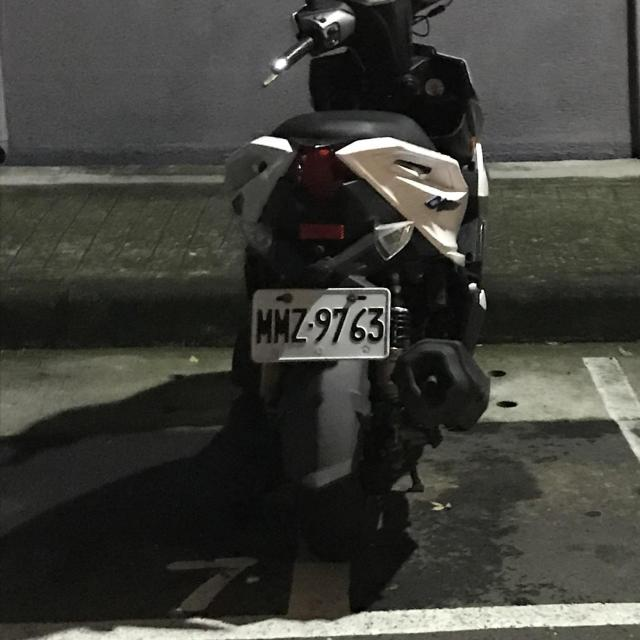W: (242, 276, 397, 371)
